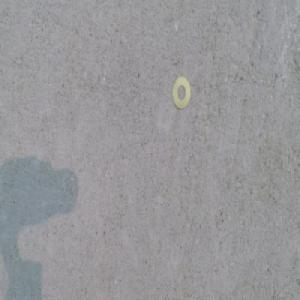Washer: (172, 77, 191, 108)
